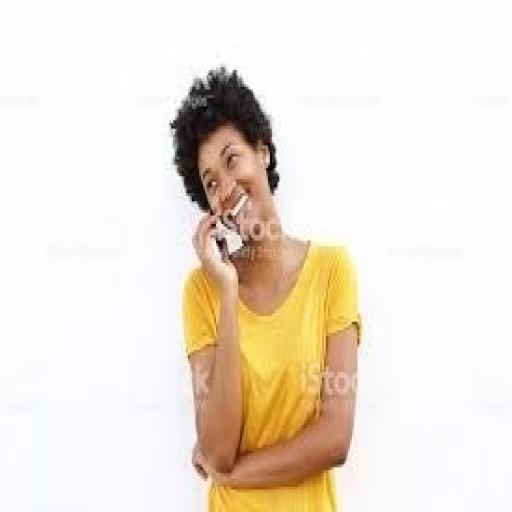calling: (168, 64, 363, 510)
